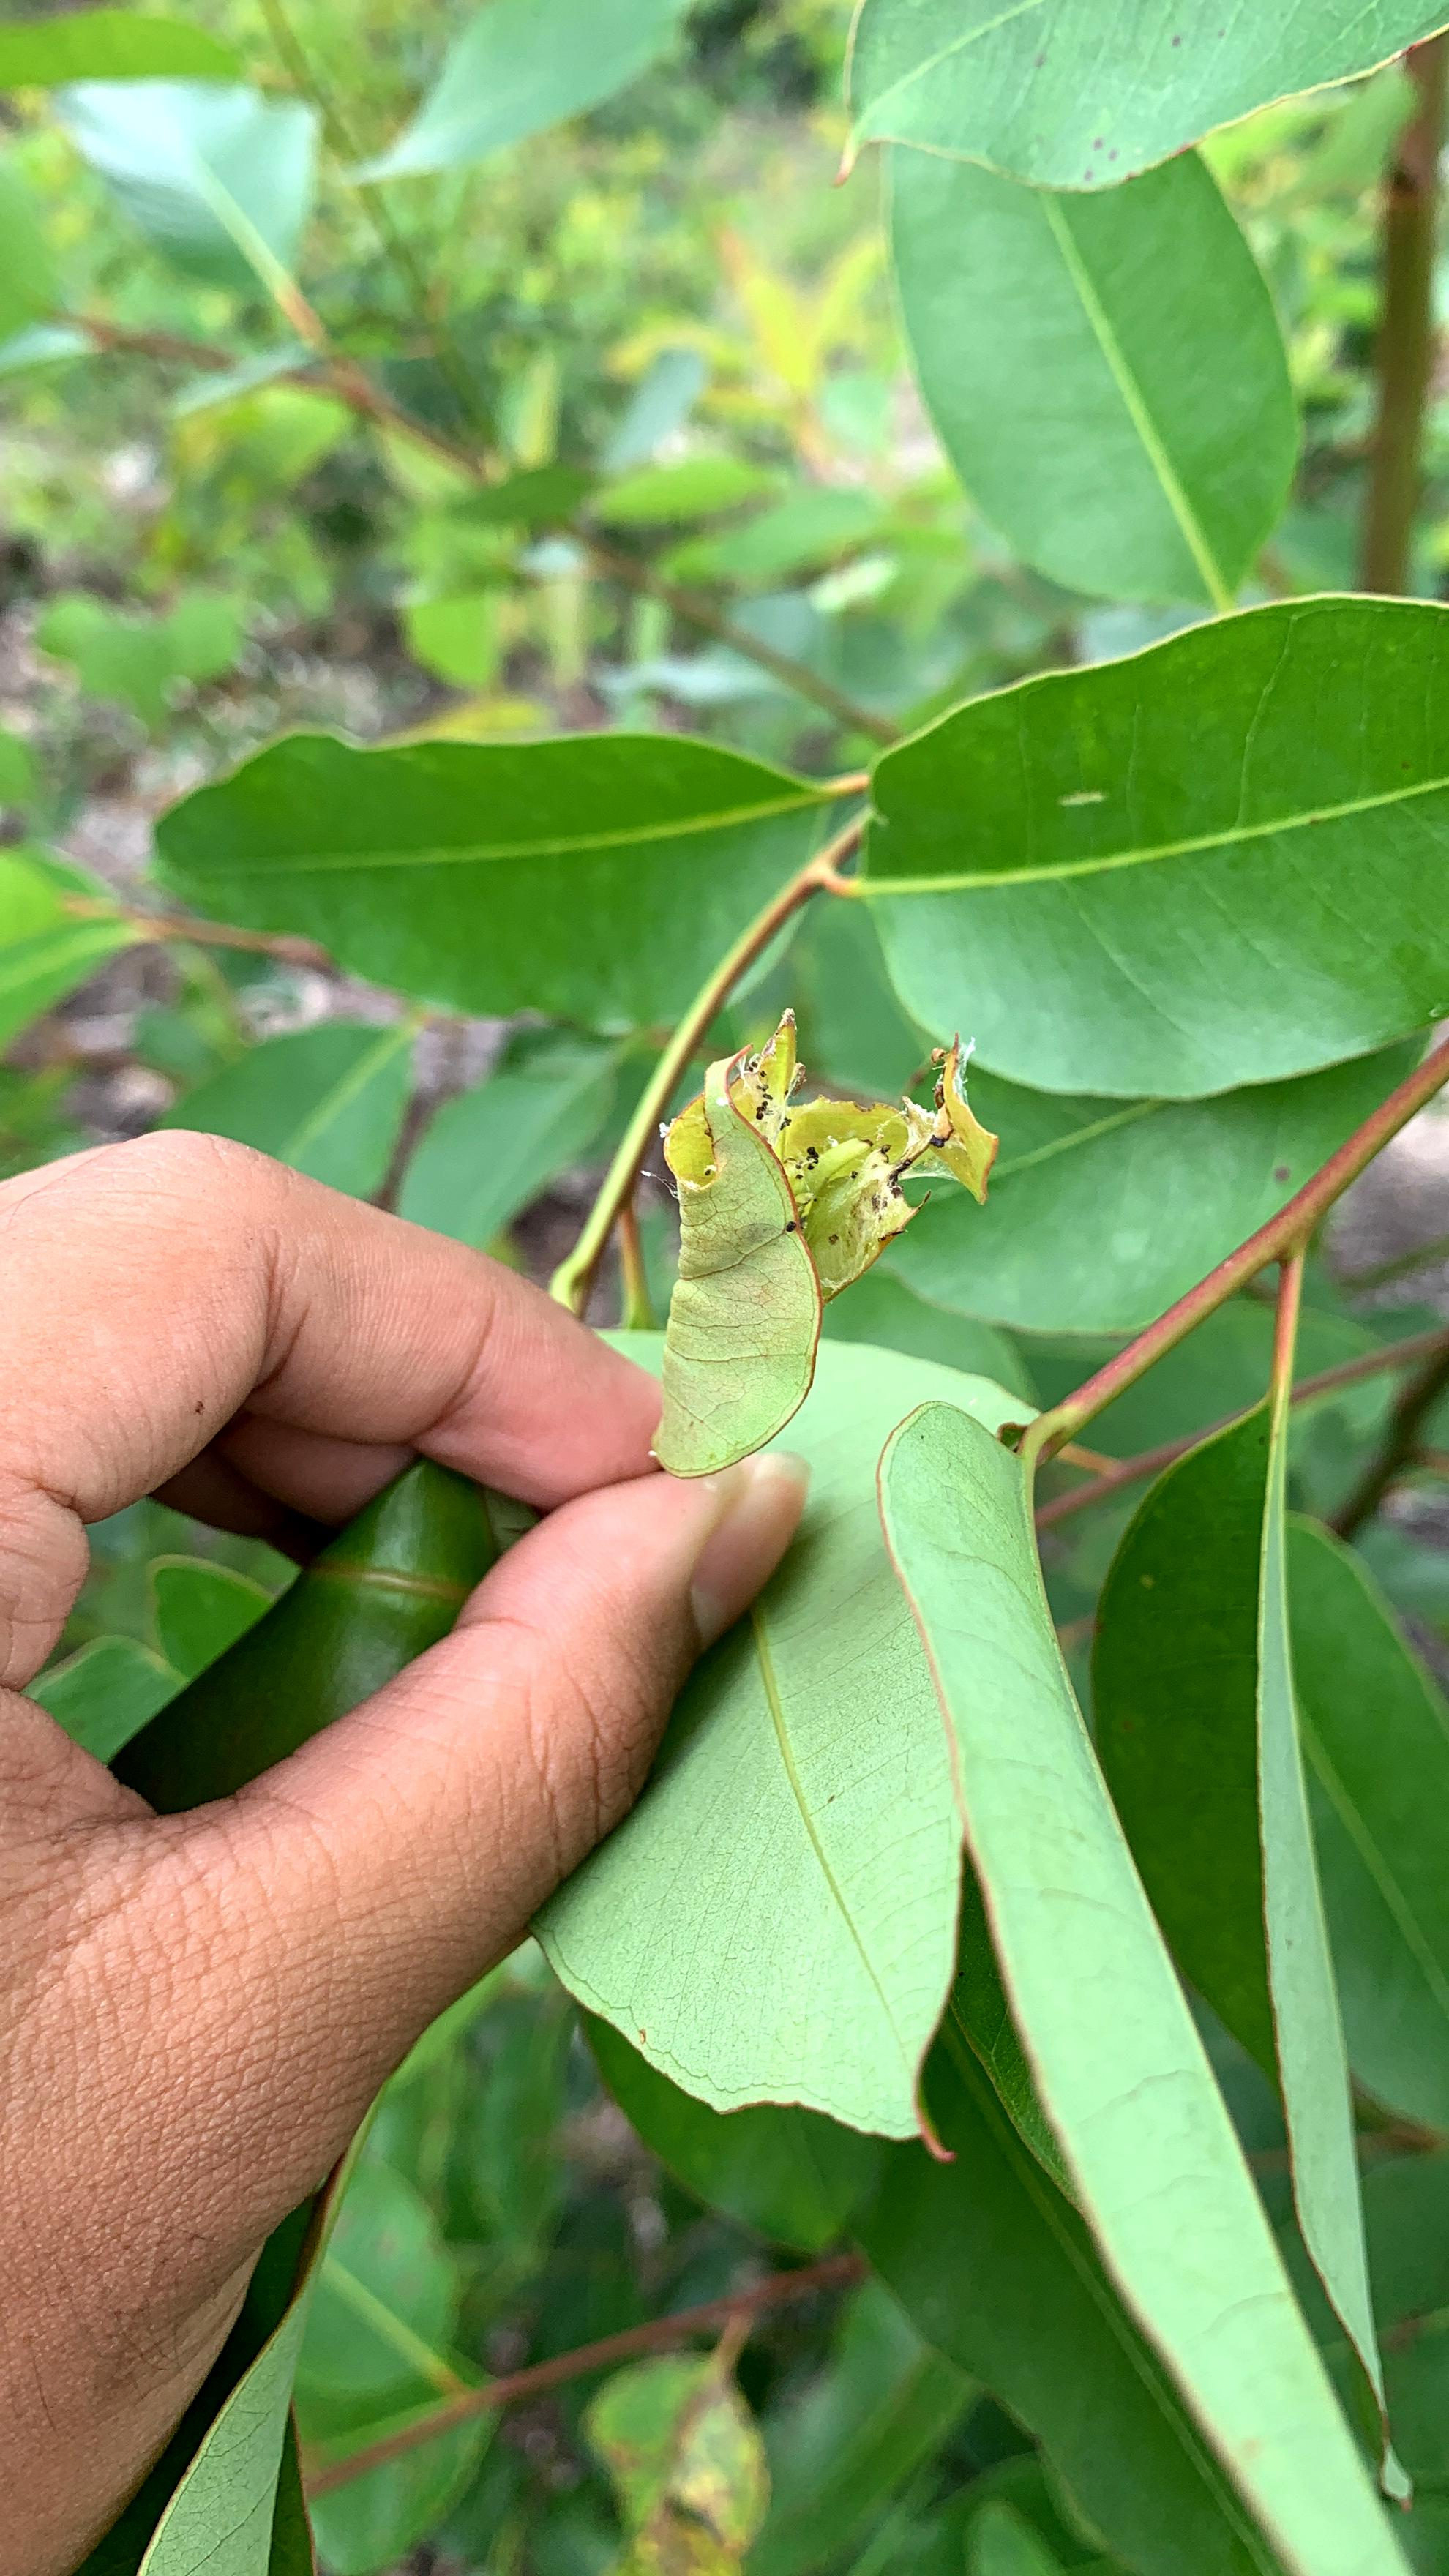Leaf Roller - Leaf: (572, 960, 1050, 1500)
